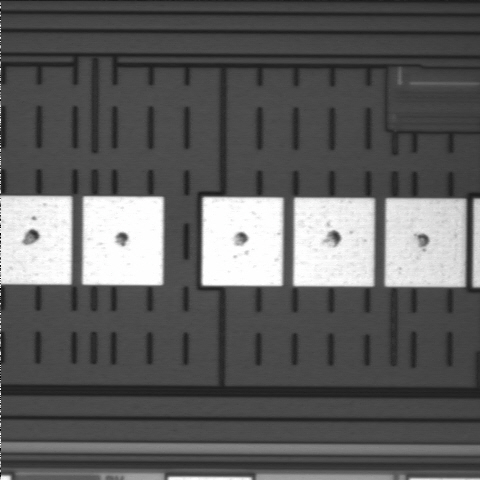pad: (82, 196, 164, 285), (202, 197, 283, 286), (293, 198, 374, 286), (385, 198, 465, 287)
